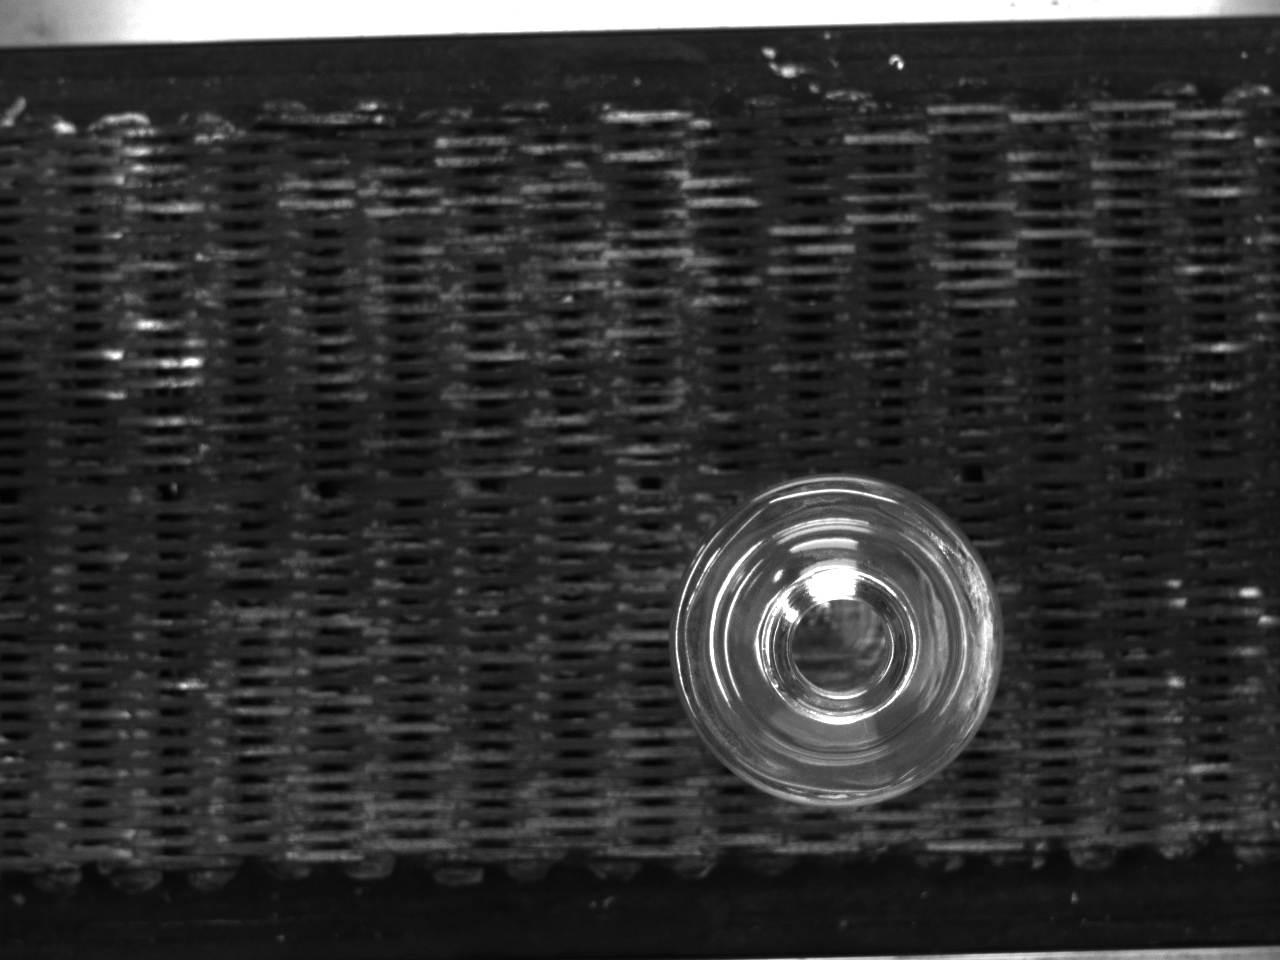bottleneck: (762, 568, 917, 725)
